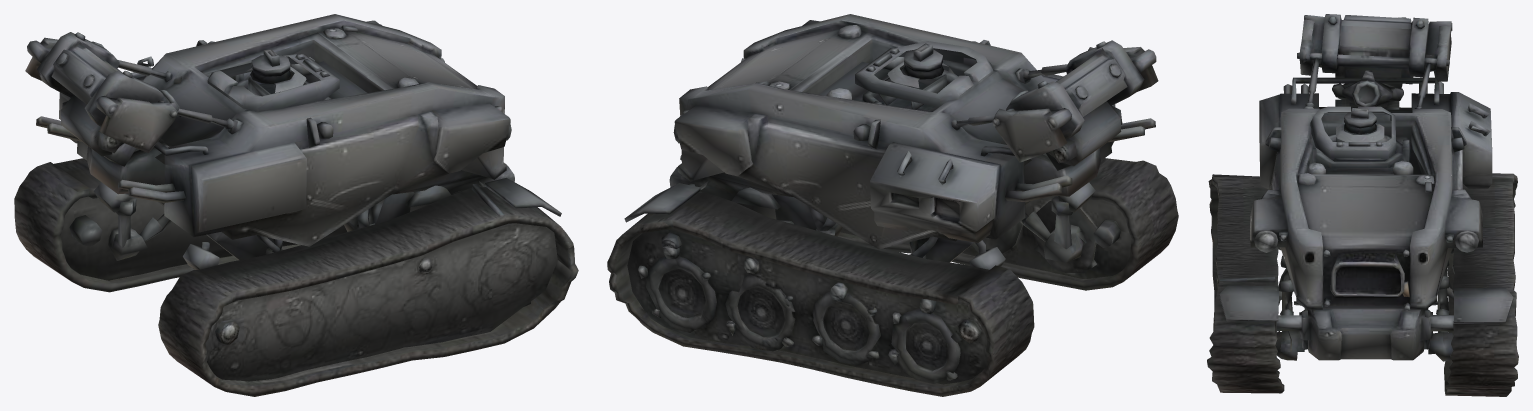
File: chassis-hauler.glb
3 views of the same model, side by side, from view 1: azimuth 30°, elevation 25°; view 2: azimuth 150°, elevation 25°; view 3: azimuth 270°, elevation 25° (orthographic). The views are drawn at different scales.
Parts seen in each view (by area): view 1: tripo_node_235bae0d-eae2-4da2-82a6-195a31b1a64a; view 2: tripo_node_235bae0d-eae2-4da2-82a6-195a31b1a64a; view 3: tripo_node_235bae0d-eae2-4da2-82a6-195a31b1a64a.
Boxes of the visible parts, x1,y1,x2,y2 form: tripo_node_235bae0d-eae2-4da2-82a6-195a31b1a64a: [14, 14, 578, 396]; tripo_node_235bae0d-eae2-4da2-82a6-195a31b1a64a: [607, 14, 1178, 396]; tripo_node_235bae0d-eae2-4da2-82a6-195a31b1a64a: [1207, 14, 1518, 396].
Bounding box in the file's own units: 0.998 × 0.6855 × 0.7794.
1 material, 1 textured.
